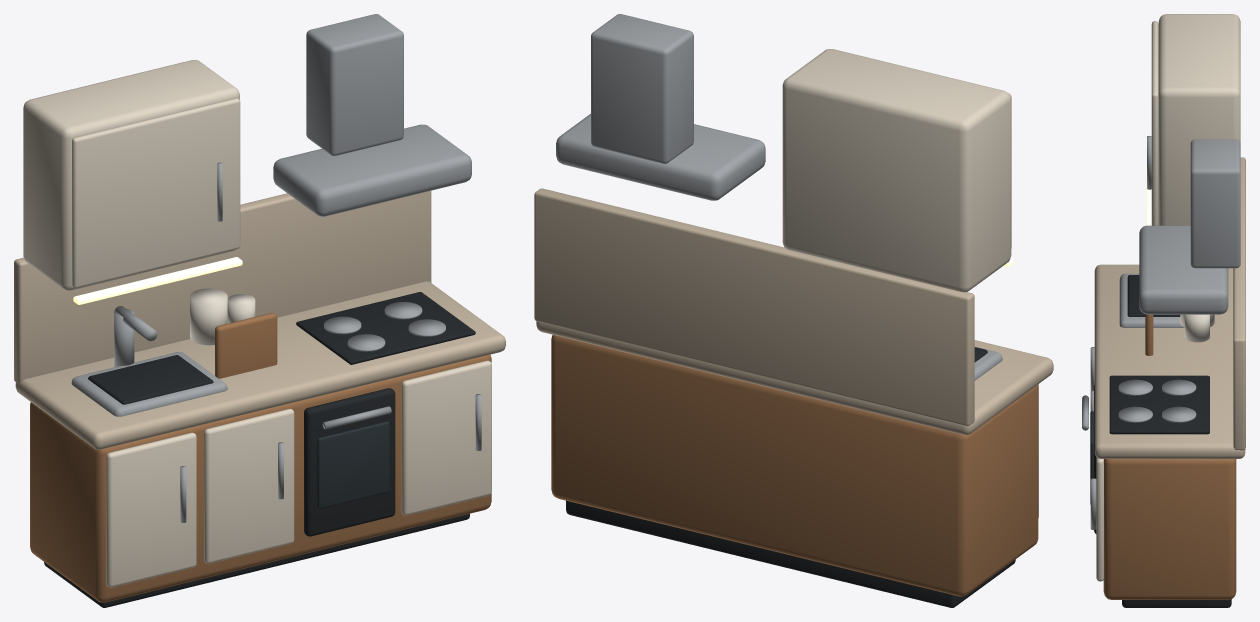
The model's file is project-warm-minimal-kitchen.glb.
3 views of the same model, side by side, from view 1: azimuth 30°, elevation 25°; view 2: azimuth 150°, elevation 25°; view 3: azimuth 270°, elevation 25° (orthographic). The views are drawn at different scales.
Visible parts, largest first — view 1: backsplash, wall-door-left, base-carcass, worktop, wall-cabinet-left, hood-chimney, base-door-3, base-door-1, base-door-2, hood-canopy, oven-frame, induction-hob (+9 smaller); view 2: base-carcass, backsplash, wall-cabinet-left, hood-chimney, hood-canopy, worktop, toe-kick; view 3: base-carcass, worktop, wall-cabinet-left, hood-chimney, hood-canopy, induction-hob, backsplash, wall-door-left, sink-basin, base-door-3, toe-kick, ceramic-canister-small (+11 smaller).
Part boxes in pixels (left/top/right/bottom): backsplash: left=14, top=190, right=431, bottom=384; wall-door-left: left=72, top=98, right=240, bottom=288; base-carcass: left=30, top=354, right=491, bottom=602; worktop: left=15, top=281, right=505, bottom=449; wall-cabinet-left: left=23, top=60, right=239, bottom=290; hood-chimney: left=306, top=14, right=403, bottom=155; base-door-3: left=401, top=360, right=491, bottom=515; base-door-1: left=106, top=432, right=196, bottom=587; base-door-2: left=204, top=409, right=294, bottom=563; hood-canopy: left=273, top=124, right=471, bottom=216; oven-frame: left=304, top=388, right=395, bottom=536; induction-hob: left=296, top=292, right=475, bottom=364; base-carcass: left=551, top=335, right=1038, bottom=596; backsplash: left=534, top=188, right=974, bottom=426; wall-cabinet-left: left=782, top=49, right=1011, bottom=292; hood-chimney: left=591, top=14, right=693, bottom=163; hood-canopy: left=556, top=113, right=765, bottom=200; worktop: left=536, top=321, right=1053, bottom=435; toe-kick: left=566, top=500, right=1015, bottom=607; base-carcass: left=1103, top=459, right=1236, bottom=599; worktop: left=1094, top=264, right=1245, bottom=458; wall-cabinet-left: left=1158, top=14, right=1240, bottom=225; hood-chimney: left=1190, top=139, right=1240, bottom=268; hood-canopy: left=1139, top=225, right=1228, bottom=314; induction-hob: left=1109, top=375, right=1209, bottom=434; backsplash: left=1233, top=157, right=1245, bottom=450; wall-door-left: left=1151, top=21, right=1158, bottom=225; sink-basin: left=1119, top=273, right=1184, bottom=327; base-door-3: left=1096, top=457, right=1103, bottom=581; toe-kick: left=1122, top=599, right=1231, bottom=607; ceramic-canister-small: left=1184, top=314, right=1209, bottom=342.
Size of the model in its own units: 1.9 by 2.06 by 0.7174.
